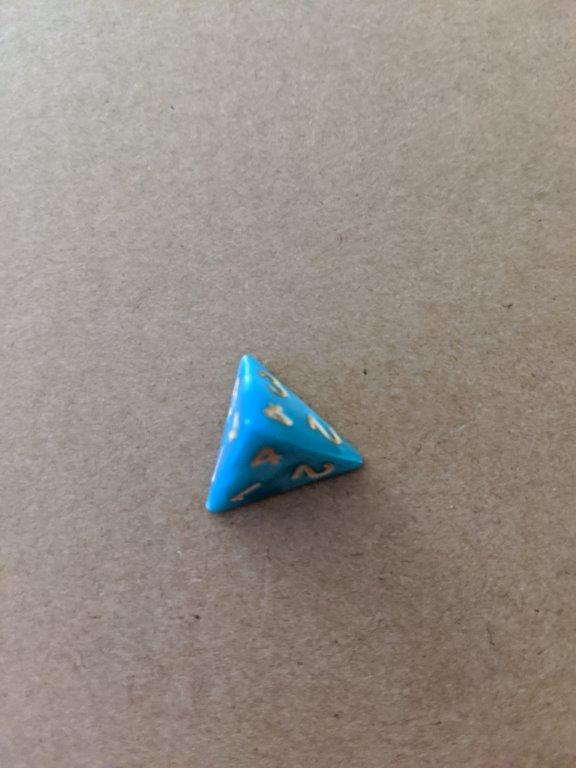d4-4: (200, 355, 366, 513)
